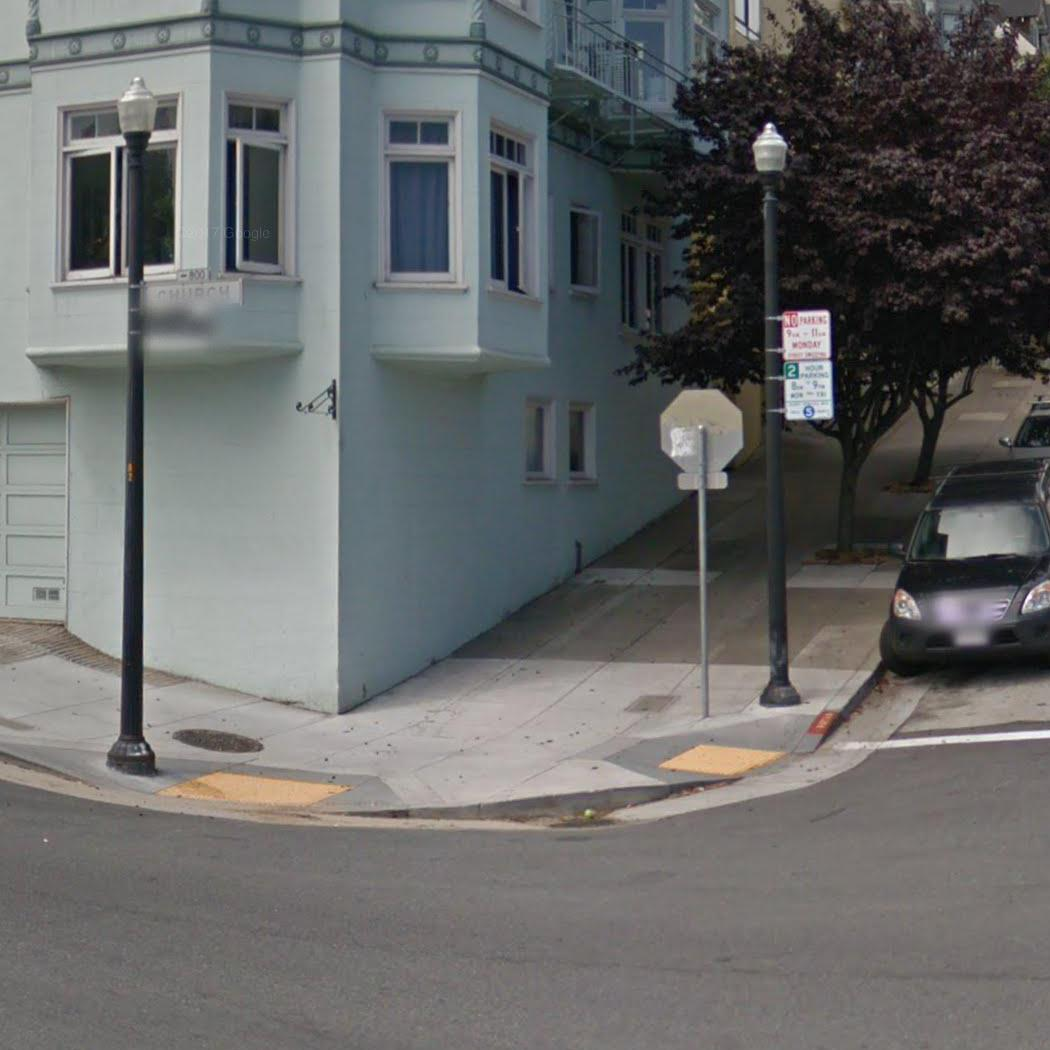2 Hour Parking: (780, 358, 836, 424)
No Parking: (778, 307, 834, 365)
